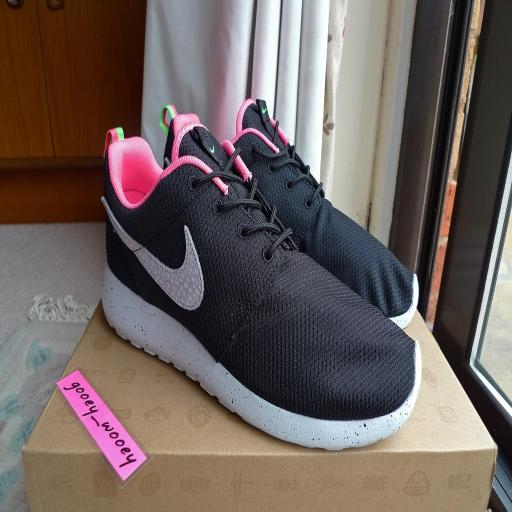shoe: (102, 109, 421, 450), (232, 99, 418, 328)
